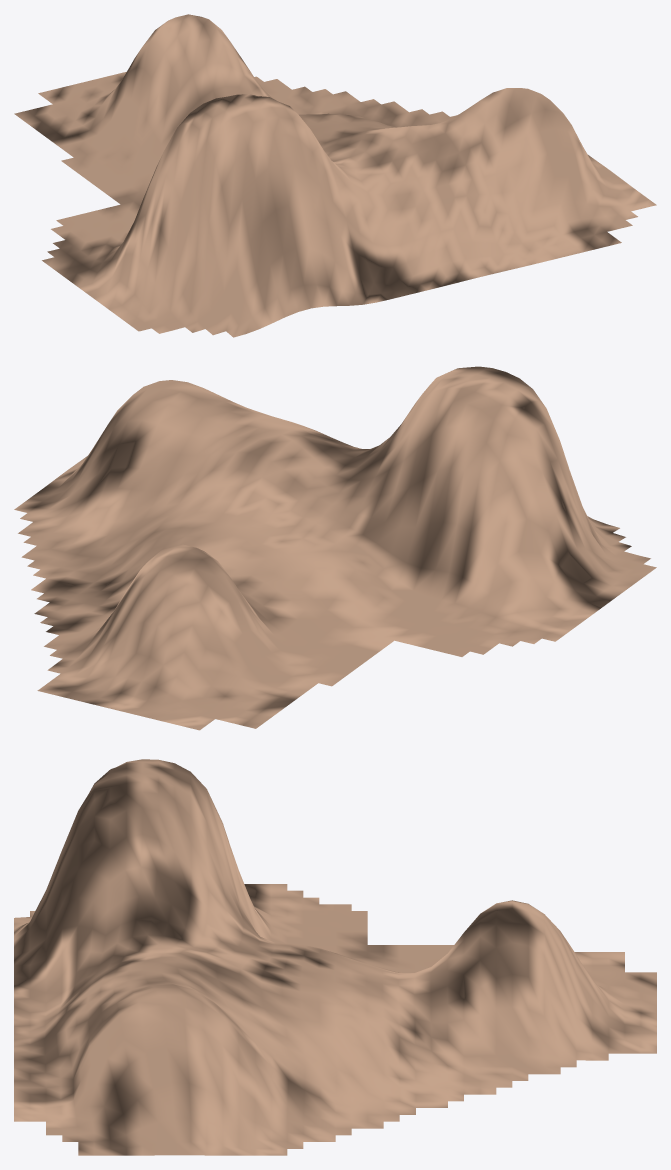
File: island3.FBX
3 renders of one model, top to bottom at view 1: azimuth 30°, elevation 25°; view 2: azimuth 150°, elevation 25°; view 3: azimuth 270°, elevation 25°, orthographic. The views are drawn at different scales.
Visible parts, largest first — view 1: plane; view 2: plane; view 3: plane.
Boxes of the visible parts, x1,y1,x2,y2 form: plane: (14, 14, 656, 337); plane: (14, 366, 656, 730); plane: (14, 759, 656, 1155).
Bounding box in the file's own units: 118 × 37.45 × 118.
